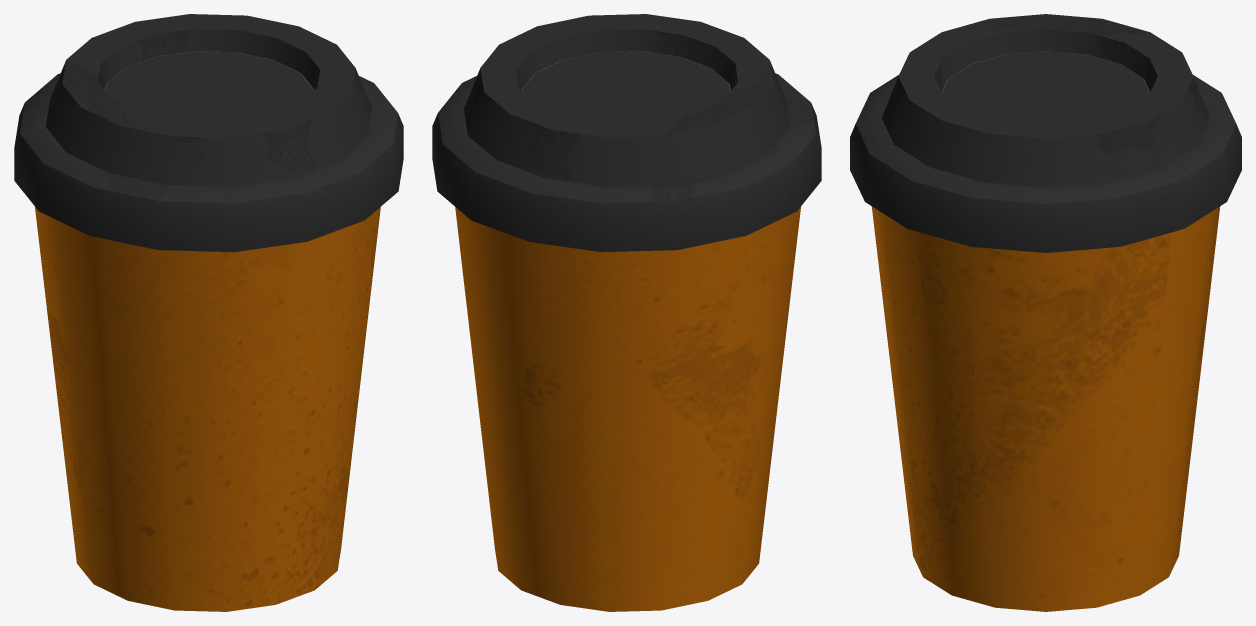
The model's file is Cup.fbx.
3 renders of one model, left to right at view 1: azimuth 30°, elevation 25°; view 2: azimuth 150°, elevation 25°; view 3: azimuth 270°, elevation 25°, orthographic.
Parts seen in each view (by area): view 1: Cup; view 2: Cup; view 3: Cup.
Boxes of the visible parts, x1=… form: Cup: x1=14, y1=14, x2=403, y2=611; Cup: x1=432, y1=14, x2=821, y2=611; Cup: x1=850, y1=14, x2=1241, y2=611.
Bounding box in the file's own units: 7.85 × 10.6 × 7.85.
